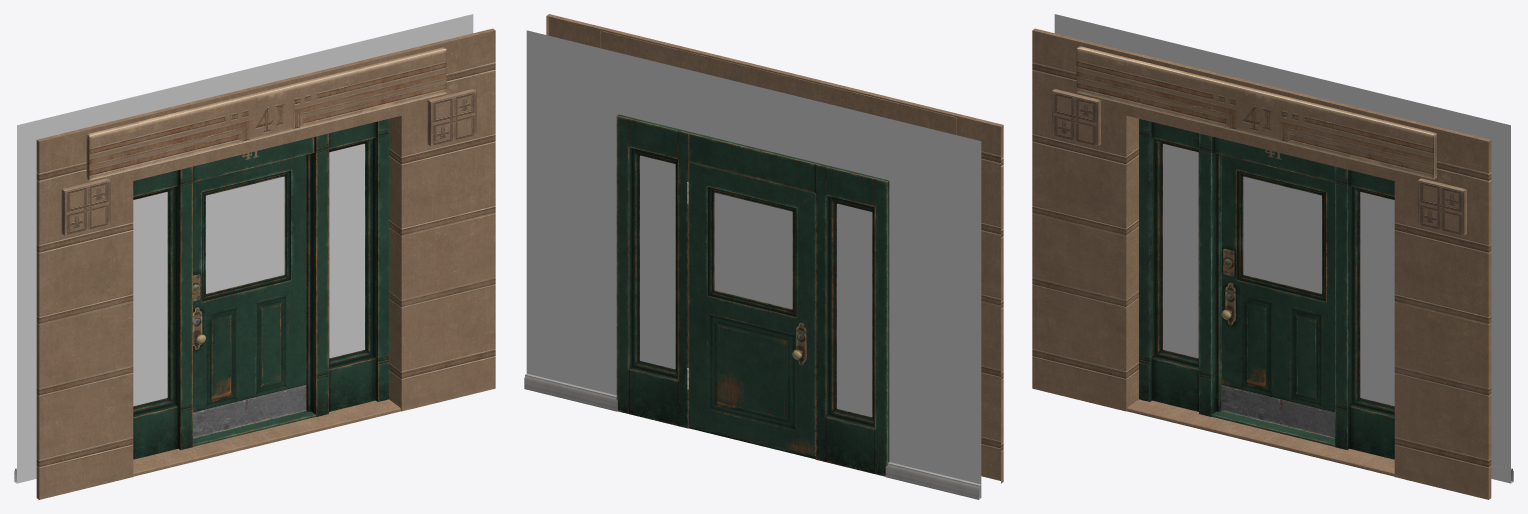
The model's file is House_01_Door_01.fbx.
3 views of the same model, side by side, from view 1: azimuth 30°, elevation 25°; view 2: azimuth 150°, elevation 25°; view 3: azimuth 330°, elevation 25° (orthographic).
Parts seen in each view (by area): view 1: House_01_Wall_Door_01_LOD0, House_01_Door_01_LOD0; view 2: House_01_Wall_Door_01_LOD0, House_01_Door_01_LOD0; view 3: House_01_Wall_Door_01_LOD0, House_01_Door_01_LOD0.
Part boxes in pixels (box(x1,y1,x2,y2)): House_01_Wall_Door_01_LOD0: box(14, 14, 495, 499); House_01_Door_01_LOD0: box(193, 155, 306, 437); House_01_Wall_Door_01_LOD0: box(524, 14, 1003, 499); House_01_Door_01_LOD0: box(687, 162, 815, 456); House_01_Wall_Door_01_LOD0: box(1032, 14, 1513, 499); House_01_Door_01_LOD0: box(1221, 155, 1334, 437).
Size of what is drawn, in the model's own units: 400 by 301 by 51.26.
